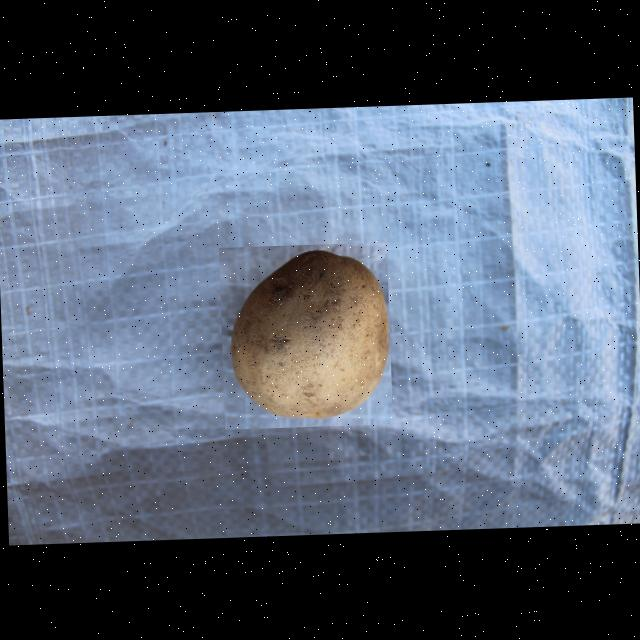Diseased-fungal potato: (218, 241, 392, 428)
